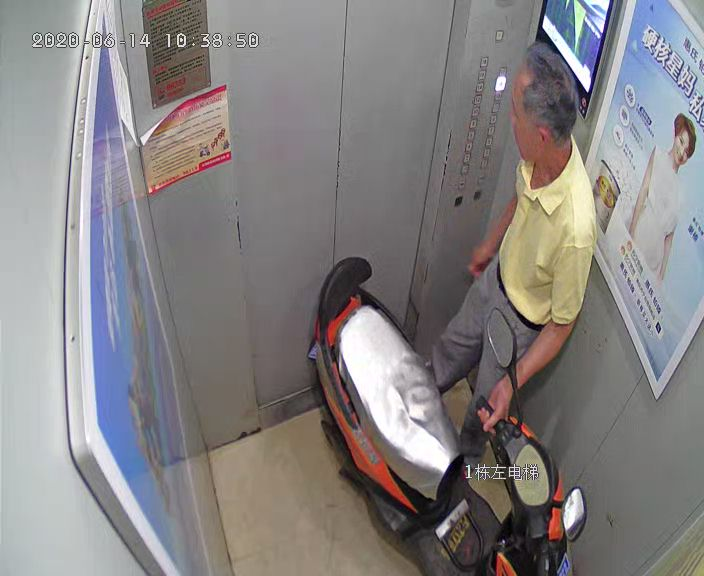Electric-bicycle: (309, 256, 585, 571)
